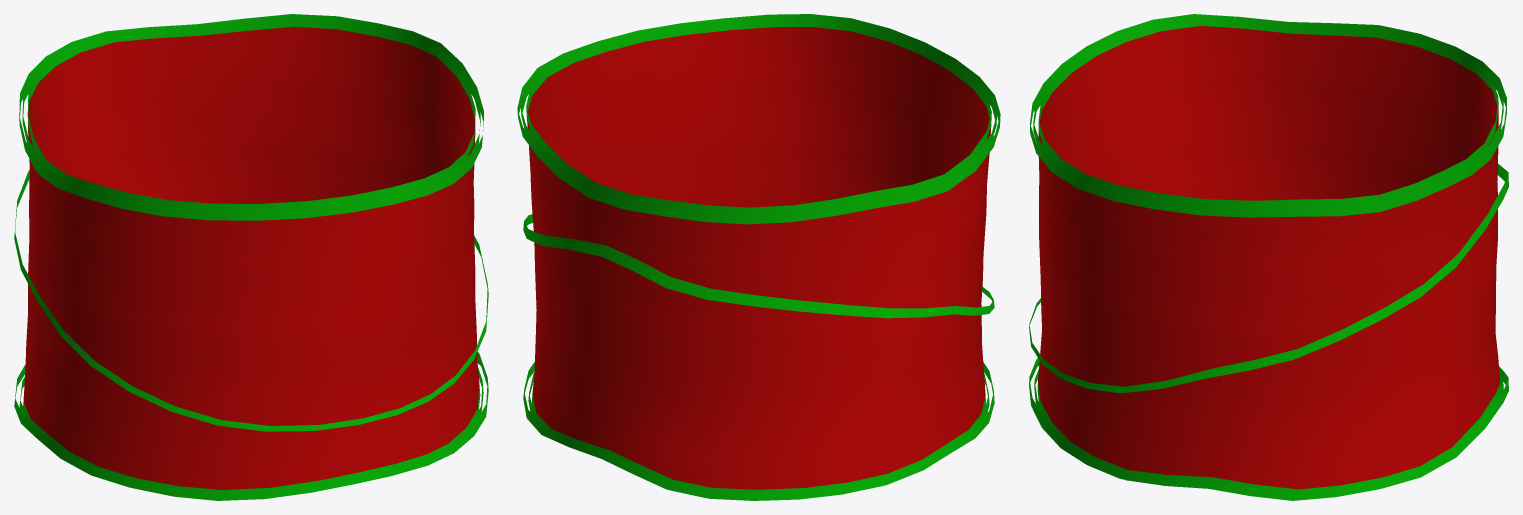
File: Pr_wipesReaderBody.fbx
The picture shows the model from 3 angles, left to right: view 1: azimuth 30°, elevation 25°; view 2: azimuth 150°, elevation 25°; view 3: azimuth 270°, elevation 25°; orthographic projection.
Parts seen in each view (by area): view 1: fx_wipeMichelReader; view 2: fx_wipeMichelReader; view 3: fx_wipeMichelReader.
Part boxes in pixels (x1,y1,x2,y2): fx_wipeMichelReader: [14, 14, 488, 500]; fx_wipeMichelReader: [517, 14, 1000, 500]; fx_wipeMichelReader: [1029, 14, 1508, 500].
Bounding box in the file's own units: 70.87 × 49.7 × 71.53.
